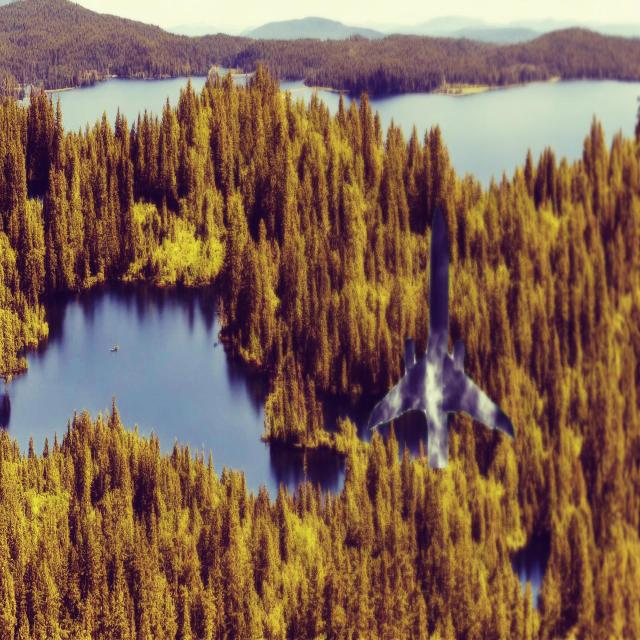airplane: (367, 205, 515, 469)
